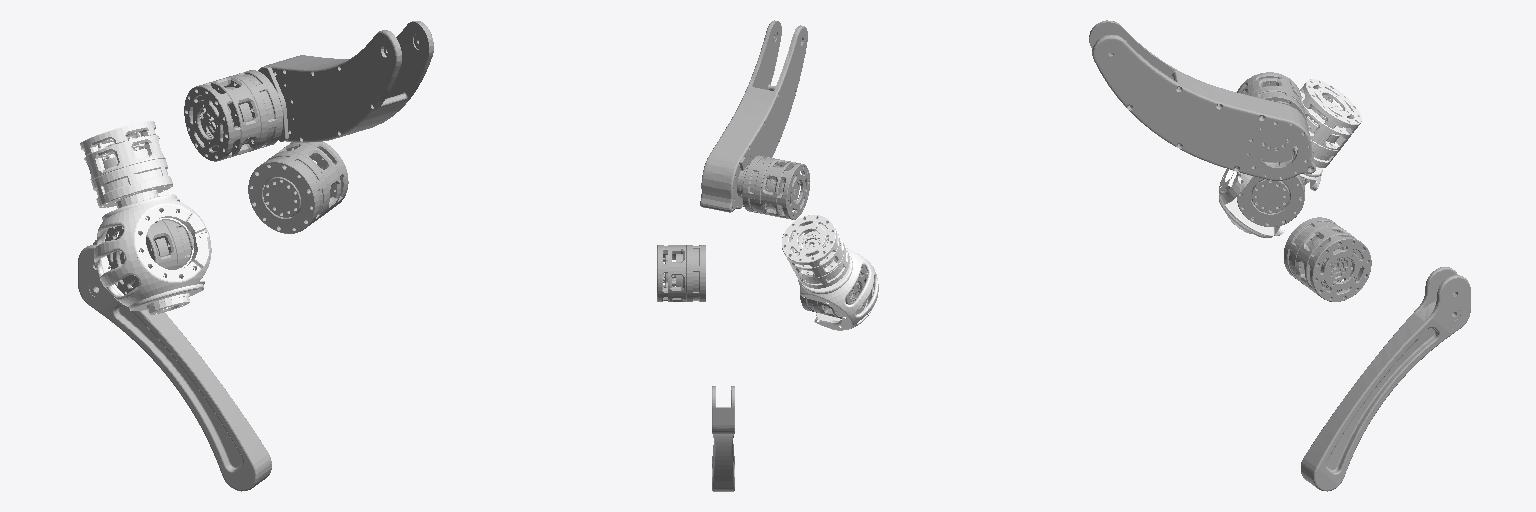
robot.urdf — Quadruped_Rear_Left_URDF:
<?xml version="1.0" encoding="utf-8"?>
<!-- This URDF was automatically created by SolidWorks to URDF Exporter! Originally created by Stephen Brawner (brawner@gmail.com) 
     Commit Version: 1.6.1-13-g25da24a-dirty  Build Version: 1.6.9659.2150
     For more information, please see http://wiki.ros.org/sw_urdf_exporter -->
<robot
  name="Quadruped_Rear_Left_URDF">
  <link
    name="Leg_FR">
    <inertial>
      <origin
        xyz="-0.10815 -7.3379E-05 5.3042E-05"
        rpy="0 0 0" />
      <mass
        value="0.42117" />
      <inertia
        ixx="0.00044949"
        ixy="-5.7563E-08"
        ixz="4.042E-08"
        iyy="0.00023679"
        iyz="-5.7886E-08"
        izz="0.00023683" />
    </inertial>
    <visual>
      <origin
        xyz="0 0 0"
        rpy="0 0 0" />
      <geometry>
        <mesh
          filename="package://Quadruped_Rear_Left_URDF/meshes/Leg_FR.STL" />
      </geometry>
      <material
        name="">
        <color
          rgba="0.75294 0.75294 0.75294 1" />
      </material>
    </visual>
    <collision>
      <origin
        xyz="0 0 0"
        rpy="0 0 0" />
      <geometry>
        <mesh
          filename="package://Quadruped_Rear_Left_URDF/meshes/Leg_FR.STL" />
      </geometry>
    </collision>
  </link>
  <link
    name="Hip_Link">
    <inertial>
      <origin
        xyz="-3.0301E-05 0.0045323 -0.04785"
        rpy="0 0 0" />
      <mass
        value="0.75788" />
      <inertia
        ixx="0.0012006"
        ixy="2.2562E-06"
        ixz="-9.7656E-07"
        iyy="0.0013158"
        iyz="1.6659E-06"
        izz="0.0010743" />
    </inertial>
    <visual>
      <origin
        xyz="0 0 0"
        rpy="0 0 0" />
      <geometry>
        <mesh
          filename="package://Quadruped_Rear_Left_URDF/meshes/Hip_Link.STL" />
      </geometry>
      <material
        name="">
        <color
          rgba="1 1 1 1" />
      </material>
    </visual>
    <collision>
      <origin
        xyz="0 0 0"
        rpy="0 0 0" />
      <geometry>
        <mesh
          filename="package://Quadruped_Rear_Left_URDF/meshes/Hip_Link.STL" />
      </geometry>
    </collision>
  </link>
  <joint
    name="Hip_FR"
    type="revolute">
    <origin
      xyz="-0.10814 0 0"
      rpy="1.5708 0.96031 -1.5708" />
    <parent
      link="Leg_FR" />
    <child
      link="Hip_Link" />
    <axis
      xyz="0 0 1" />
    <limit
      lower="0"
      upper="0"
      effort="0"
      velocity="0" />
  </joint>
  <link
    name="Thigh_Link">
    <inertial>
      <origin
        xyz="0.029629 0.050354 -0.10151"
        rpy="0 0 0" />
      <mass
        value="1.0769" />
      <inertia
        ixx="0.0037617"
        ixy="-0.0021702"
        ixz="-3.5742E-06"
        iyy="0.002318"
        iyz="-5.758E-06"
        izz="0.0060016" />
    </inertial>
    <visual>
      <origin
        xyz="0 0 0"
        rpy="0 0 0" />
      <geometry>
        <mesh
          filename="package://Quadruped_Rear_Left_URDF/meshes/Thigh_Link.STL" />
      </geometry>
      <material
        name="">
        <color
          rgba="0.75294 0.75294 0.75294 1" />
      </material>
    </visual>
    <collision>
      <origin
        xyz="0 0 0"
        rpy="0 0 0" />
      <geometry>
        <mesh
          filename="package://Quadruped_Rear_Left_URDF/meshes/Thigh_Link.STL" />
      </geometry>
    </collision>
  </link>
  <joint
    name="Thigh_FR"
    type="revolute">
    <origin
      xyz="-0.12389 0.086678 -0.10814"
      rpy="-1.5708 0.094043 0.96031" />
    <parent
      link="Hip_Link" />
    <child
      link="Thigh_Link" />
    <axis
      xyz="0 0 1" />
    <limit
      lower="0"
      upper="0"
      effort="0"
      velocity="0" />
  </joint>
  <link
    name="Shank_Link">
    <inertial>
      <origin
        xyz="-0.14054 -0.0024283 -0.1156"
        rpy="0 0 0" />
      <mass
        value="0.89279" />
      <inertia
        ixx="0.0050381"
        ixy="-0.0012603"
        ixz="-2.8881E-08"
        iyy="0.00073526"
        iyz="6.9978E-08"
        izz="0.0056587" />
    </inertial>
    <visual>
      <origin
        xyz="0 0 0"
        rpy="0 0 0" />
      <geometry>
        <mesh
          filename="package://Quadruped_Rear_Left_URDF/meshes/Shank_Link.STL" />
      </geometry>
      <material
        name="">
        <color
          rgba="0.75294 0.75294 0.75294 1" />
      </material>
    </visual>
    <collision>
      <origin
        xyz="0 0 0"
        rpy="0 0 0" />
      <geometry>
        <mesh
          filename="package://Quadruped_Rear_Left_URDF/meshes/Shank_Link.STL" />
      </geometry>
    </collision>
  </link>
  <joint
    name="Shank_FR"
    type="revolute">
    <origin
      xyz="0 0 -0.1508"
      rpy="-3.1416 0 -2.712" />
    <parent
      link="Thigh_Link" />
    <child
      link="Shank_Link" />
    <axis
      xyz="0 0 -1" />
    <limit
      lower="0"
      upper="0"
      effort="0"
      velocity="0" />
  </joint>
</robot>

--- What the picture shows (computed from the rendered views, not written in the file) ---
Views: 3 orthographic renders of the robot side by side, from view 1: azimuth 30°, elevation 25°; view 2: azimuth 150°, elevation 25°; view 3: azimuth 270°, elevation 25°.
Model Quadruped_Rear_Left_URDF with 4 links and 3 joints (3 revolute), rooted at Leg_FR, posed every joint at zero.
Links seen in each view (by area): view 1: Thigh_Link, Shank_Link, Hip_Link, Leg_FR; view 2: Thigh_Link, Hip_Link, Shank_Link, Leg_FR; view 3: Thigh_Link, Shank_Link, Hip_Link, Leg_FR.
Boxes of the visible links, <box> form: Thigh_Link: <box>184,21,433,161</box>; Shank_Link: <box>78,142,348,491</box>; Hip_Link: <box>80,121,211,314</box>; Leg_FR: <box>105,220,193,294</box>; Thigh_Link: <box>700,20,809,219</box>; Hip_Link: <box>782,215,878,330</box>; Shank_Link: <box>657,245,734,491</box>; Leg_FR: <box>800,266,868,318</box>; Thigh_Link: <box>1089,20,1315,180</box>; Shank_Link: <box>1284,217,1470,491</box>; Hip_Link: <box>1219,79,1361,237</box>; Leg_FR: <box>1236,172,1304,226</box>.
Bounding box of the posed robot: 0.3637 × 0.5074 × 0.6942 m (x, y, z).
4 mesh visuals loaded from 4 distinct referenced files (4 binary STL).
